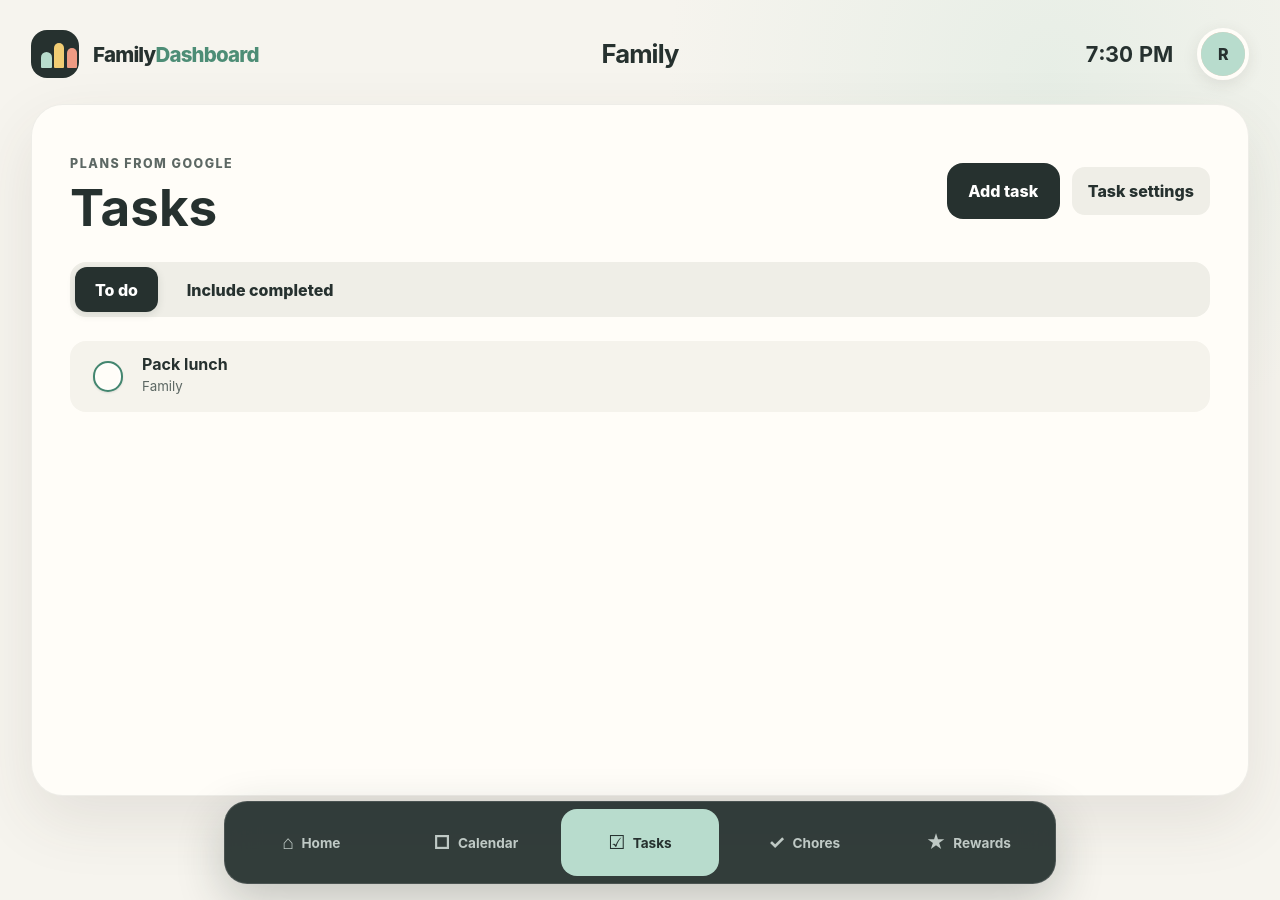
Google Tasks › lets a shared display complete a task from its circle without member attribution
Click the button named "Complete Pack lunch": [108, 376] box [86,354,130,398]
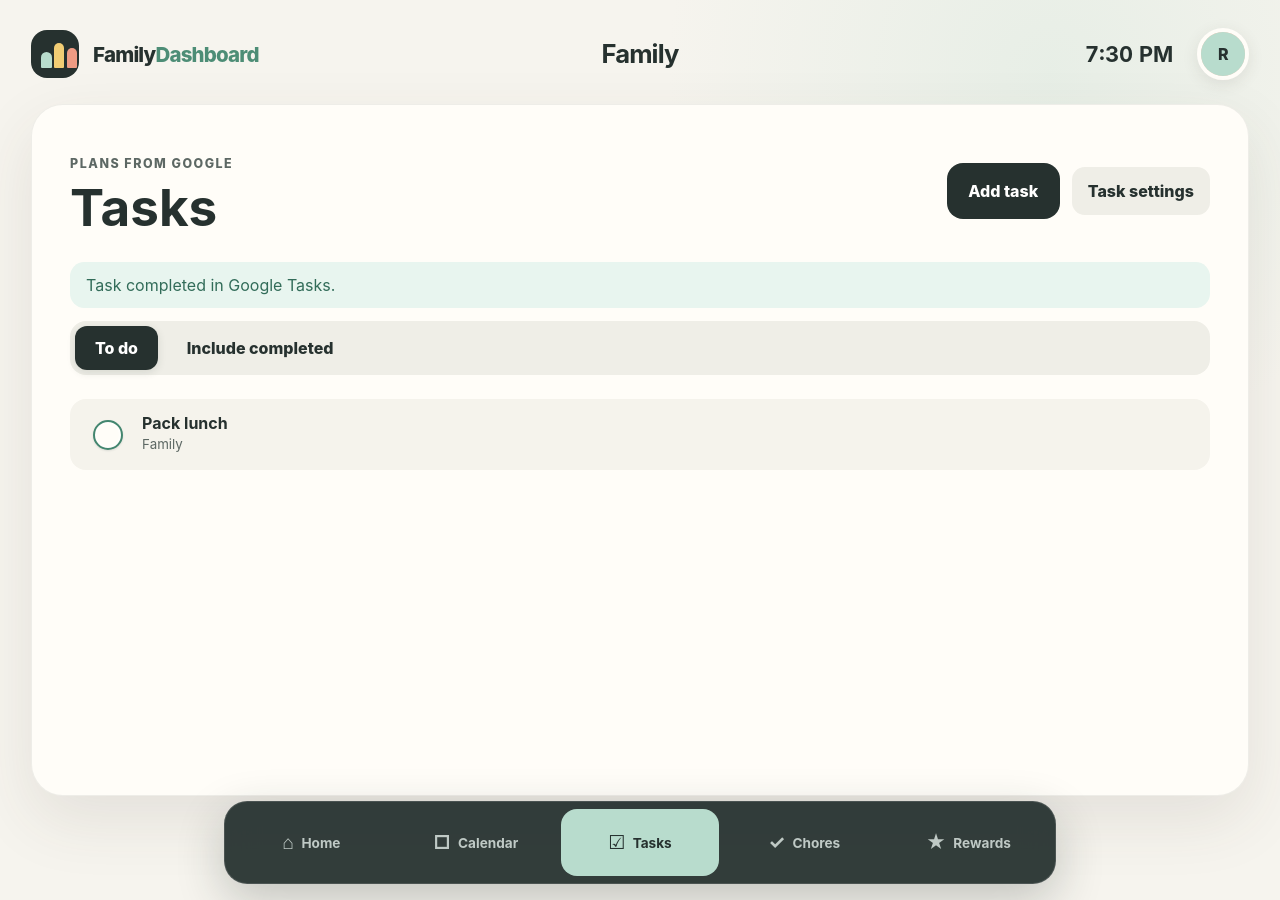
Expected: the text "Task completed in Google Tasks." is shown, [70,262,1210,308]
